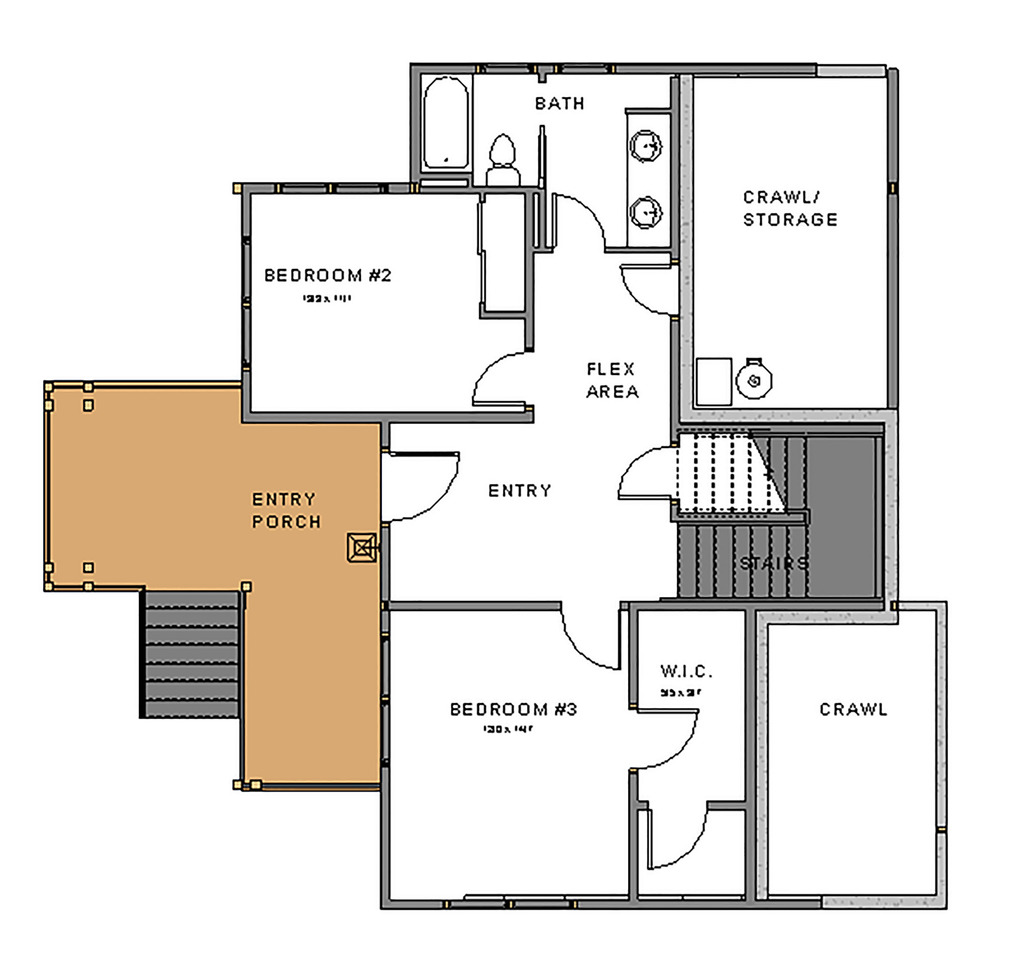door: (640, 801, 724, 878), (384, 448, 461, 526), (631, 696, 705, 772), (561, 604, 637, 675), (546, 190, 615, 263), (609, 443, 683, 507), (618, 257, 683, 321), (465, 351, 536, 409)
large_sink: (483, 126, 531, 185)
small_sink: (618, 110, 687, 253)
stairs: (677, 426, 878, 593), (134, 585, 250, 722)
tub: (415, 62, 478, 190)
